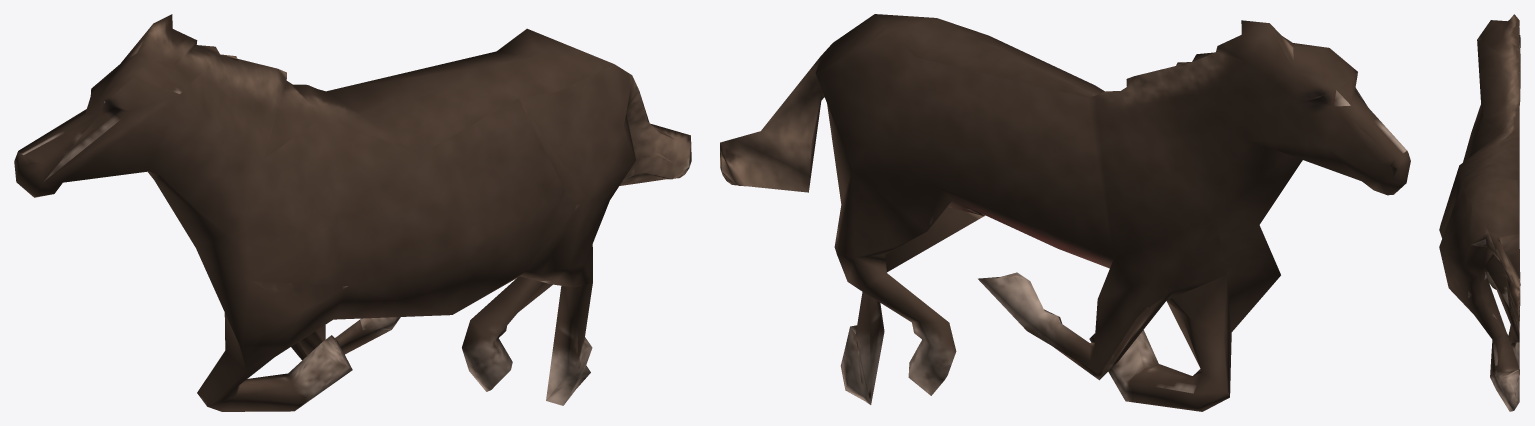
The model's file is DeadHorse01.fbx.
3 views of the same model, side by side, from view 1: azimuth 30°, elevation 25°; view 2: azimuth 150°, elevation 25°; view 3: azimuth 270°, elevation 25° (orthographic). The views are drawn at different scales.
Parts seen in each view (by area): view 1: DeadHorse01; view 2: DeadHorse01; view 3: DeadHorse01.
Boxes of the visible parts, left/top/right/bottom form: DeadHorse01: left=14, top=14, right=691, bottom=411; DeadHorse01: left=720, top=14, right=1410, bottom=411; DeadHorse01: left=1439, top=14, right=1520, bottom=411.
Size of the model in its own units: 413 by 278 by 73.02.
